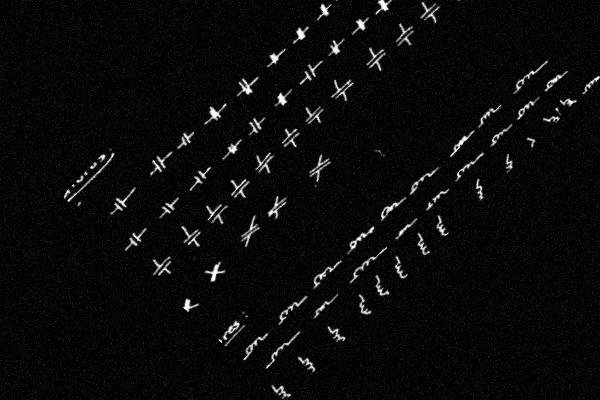capacitor: (359, 42, 393, 75), (303, 151, 336, 184), (326, 73, 359, 106), (388, 19, 421, 52), (146, 251, 178, 282), (248, 147, 280, 178), (262, 192, 293, 223), (294, 57, 325, 88), (413, 0, 447, 28), (202, 198, 232, 229), (299, 99, 330, 129), (241, 110, 271, 140), (186, 162, 216, 191), (230, 73, 260, 102), (144, 150, 173, 179), (277, 123, 306, 151), (200, 100, 229, 128), (235, 218, 263, 246), (226, 174, 254, 202), (106, 190, 134, 218), (178, 224, 206, 251), (347, 12, 375, 39), (202, 259, 229, 285), (123, 225, 150, 251), (268, 86, 295, 112), (322, 34, 349, 60), (287, 22, 313, 47), (172, 127, 197, 152), (311, 0, 336, 24), (262, 46, 286, 70), (157, 197, 181, 220), (221, 137, 244, 160), (370, 0, 397, 19), (179, 294, 200, 314), (439, 0, 467, 5), (332, 0, 354, 3)
inductor: (263, 333, 298, 368), (348, 248, 382, 282), (238, 329, 271, 361), (274, 294, 305, 325), (509, 64, 540, 95), (309, 259, 339, 289), (343, 226, 371, 254), (376, 194, 404, 222), (407, 168, 434, 196), (409, 231, 437, 258), (448, 128, 475, 155), (474, 102, 501, 129), (513, 95, 540, 122), (452, 155, 479, 182), (351, 293, 378, 319), (387, 255, 414, 281), (541, 68, 567, 93), (423, 185, 449, 210), (295, 351, 321, 376), (462, 182, 488, 207), (487, 123, 512, 147), (310, 295, 335, 319), (324, 323, 349, 347), (369, 276, 394, 300), (430, 214, 455, 238), (492, 155, 517, 179), (394, 218, 416, 240), (579, 71, 600, 93), (272, 379, 294, 400), (558, 91, 579, 112), (543, 108, 563, 128), (524, 132, 542, 149)
